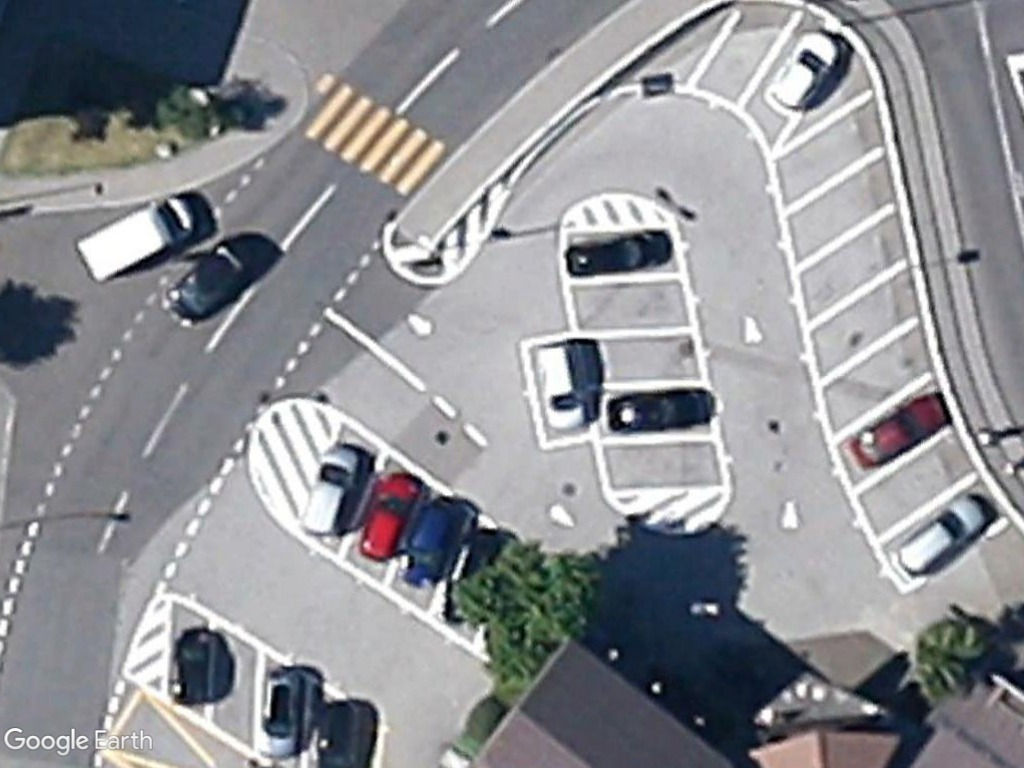car: (761, 27, 849, 122), (896, 492, 991, 578), (850, 391, 948, 471), (301, 441, 365, 544), (355, 472, 424, 567), (527, 340, 590, 438), (253, 666, 312, 764)
van: (74, 193, 199, 286)
